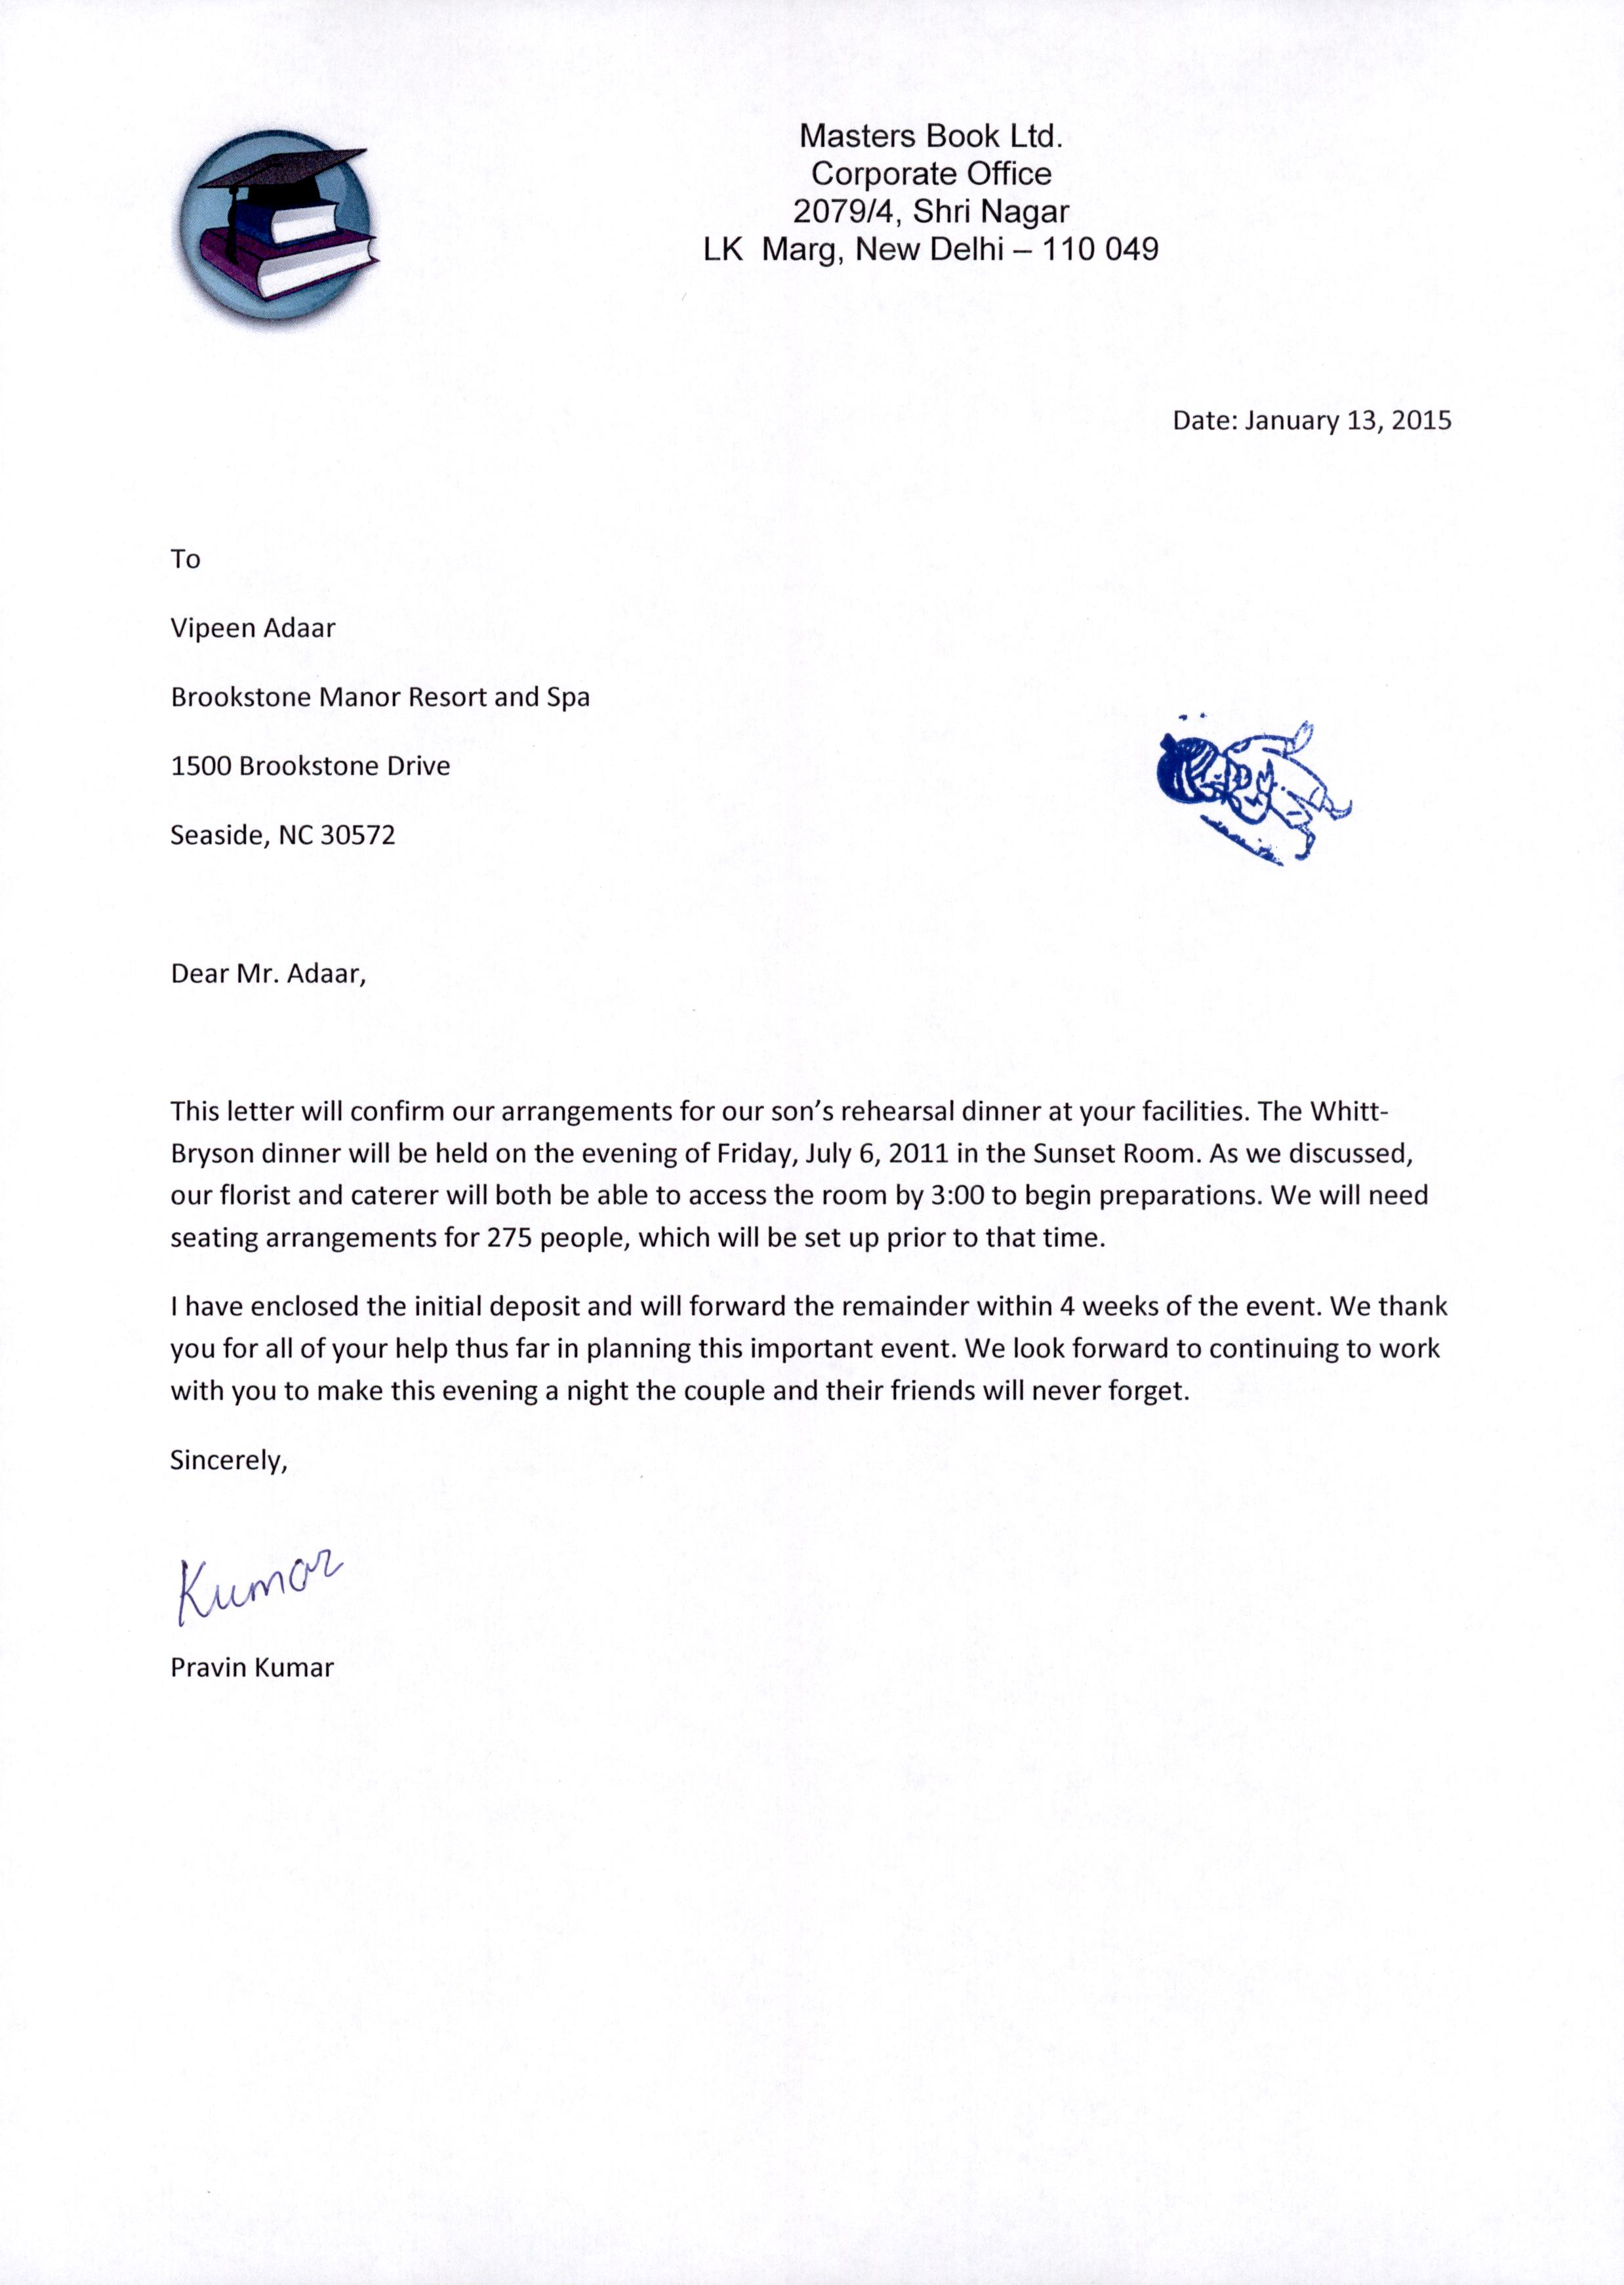Signature: (170, 1536, 357, 1635)
